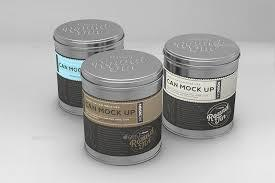Tin: (36, 12, 248, 175)
